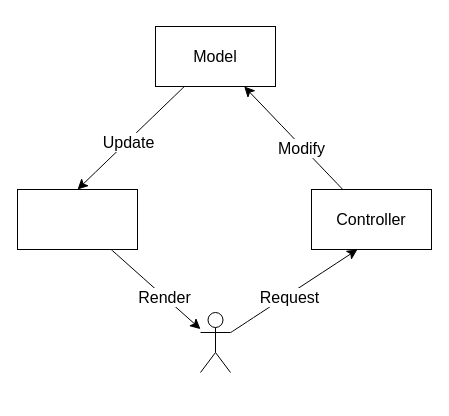
This 449x416 diagram has some shape labels left out. Here are the shapes that lost their labels. From the top down, the centre of each, then its label:
At pixel 77 219: "View".
At pixel 215 342: "User".
